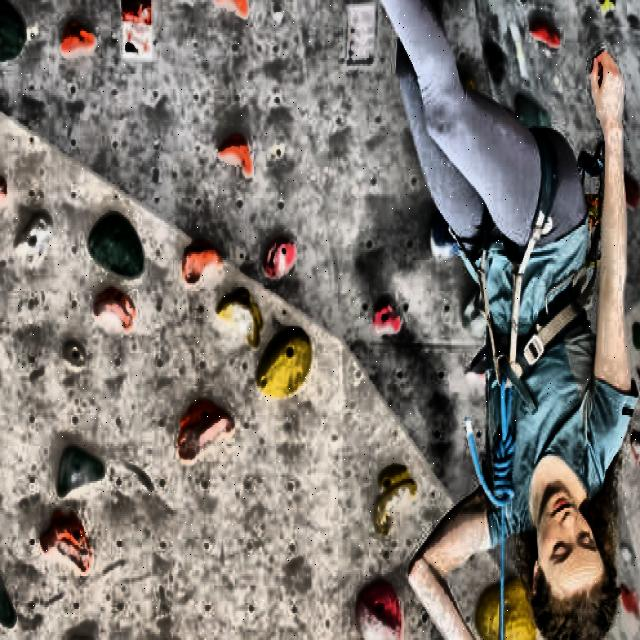Hold: (476, 573, 536, 640), (257, 332, 311, 400), (178, 400, 234, 462), (89, 215, 142, 277), (39, 512, 92, 574), (373, 465, 415, 535), (355, 580, 403, 640), (217, 289, 263, 347), (58, 446, 103, 496), (94, 287, 135, 332), (182, 240, 222, 285), (0, 0, 26, 62), (218, 134, 252, 175), (430, 213, 458, 258), (516, 93, 551, 128), (372, 301, 401, 334), (530, 19, 561, 47), (0, 580, 14, 628), (63, 343, 85, 370), (217, 0, 248, 17), (461, 77, 476, 92), (599, 0, 615, 14), (632, 324, 640, 349)
Unknown: (15, 213, 52, 264), (263, 237, 295, 279), (62, 19, 95, 56), (485, 43, 505, 85), (619, 586, 637, 621), (625, 175, 640, 208), (618, 543, 634, 568), (630, 432, 640, 469), (0, 176, 6, 203)
